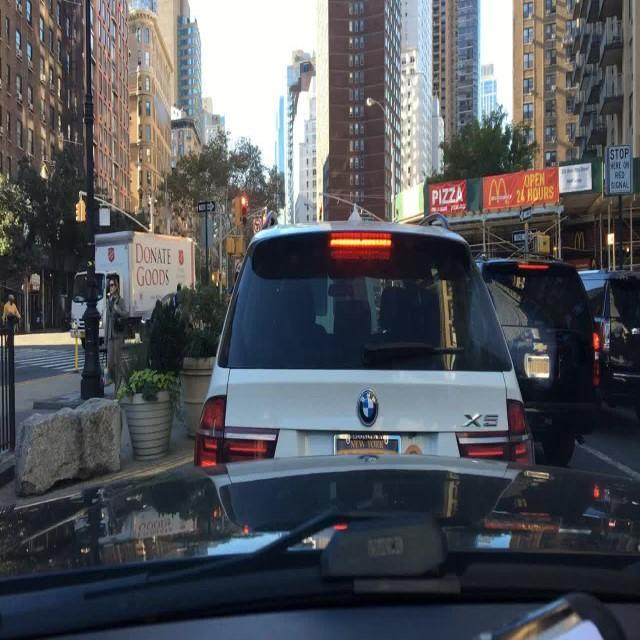normal: (196, 195, 609, 546)
